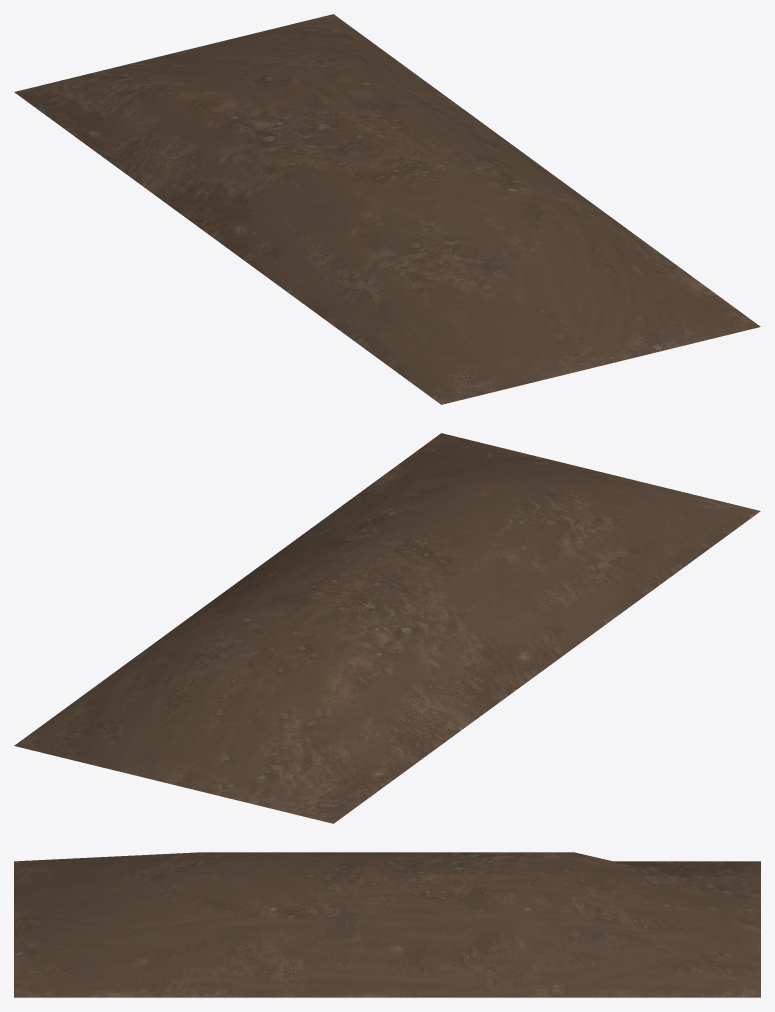
Rendered from dirt.glb.
The picture shows the model from 3 angles, top to bottom: view 1: azimuth 30°, elevation 25°; view 2: azimuth 150°, elevation 25°; view 3: azimuth 270°, elevation 25°; orthographic projection. The views are drawn at different scales.
Parts seen in each view (by area): view 1: SM_Dirt; view 2: SM_Dirt; view 3: SM_Dirt.
Boxes of the visible parts, x1,y1,x2,y2 form: SM_Dirt: (14,14,760,404); SM_Dirt: (14,433,760,823); SM_Dirt: (14,852,760,997).
Size of the model in its own units: 791 by 147 by 1831.
Materials: 1 (1 with a texture image).
